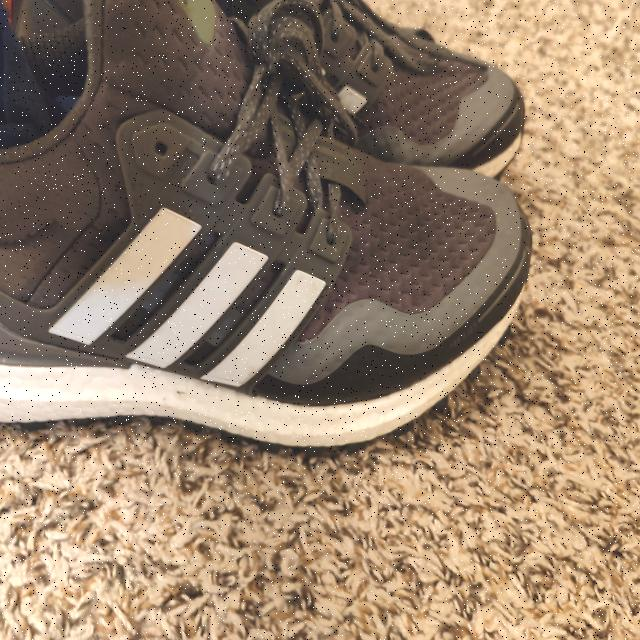black shoes: (0, 0, 524, 420)
